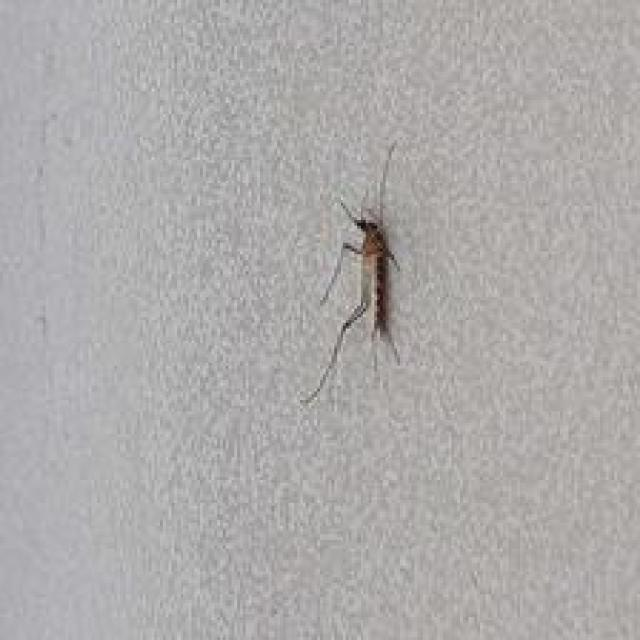Culex: (297, 140, 406, 406)
